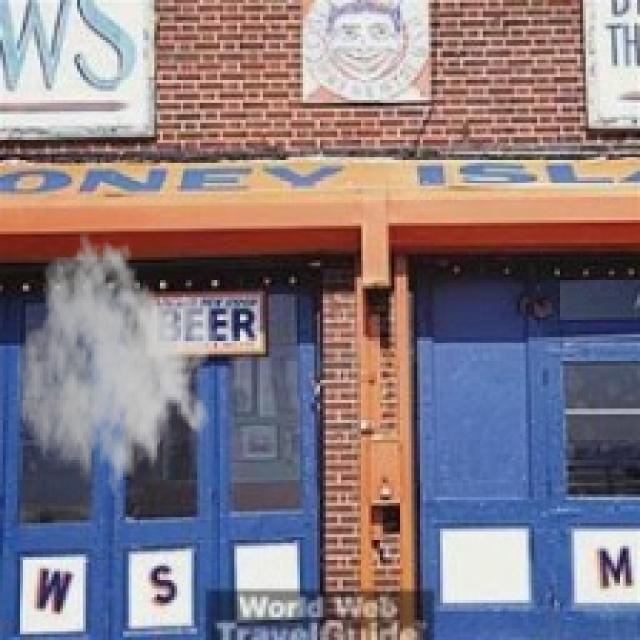smoke: (14, 232, 217, 512)
